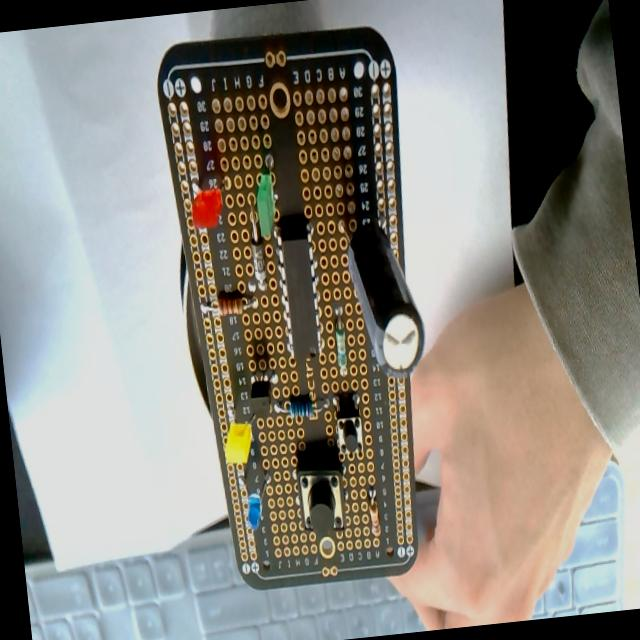Electrolytic capacitor: (338, 207, 430, 383)
IC: (274, 218, 328, 362)
diode: (246, 193, 270, 292)
led: (188, 176, 225, 234), (252, 168, 278, 238), (241, 474, 272, 529), (222, 421, 254, 467)
resistor: (200, 290, 256, 320), (332, 306, 348, 368), (282, 393, 314, 421), (368, 497, 382, 539)
switch: (294, 450, 350, 546), (333, 396, 364, 456)
transistor: (243, 352, 280, 421)
